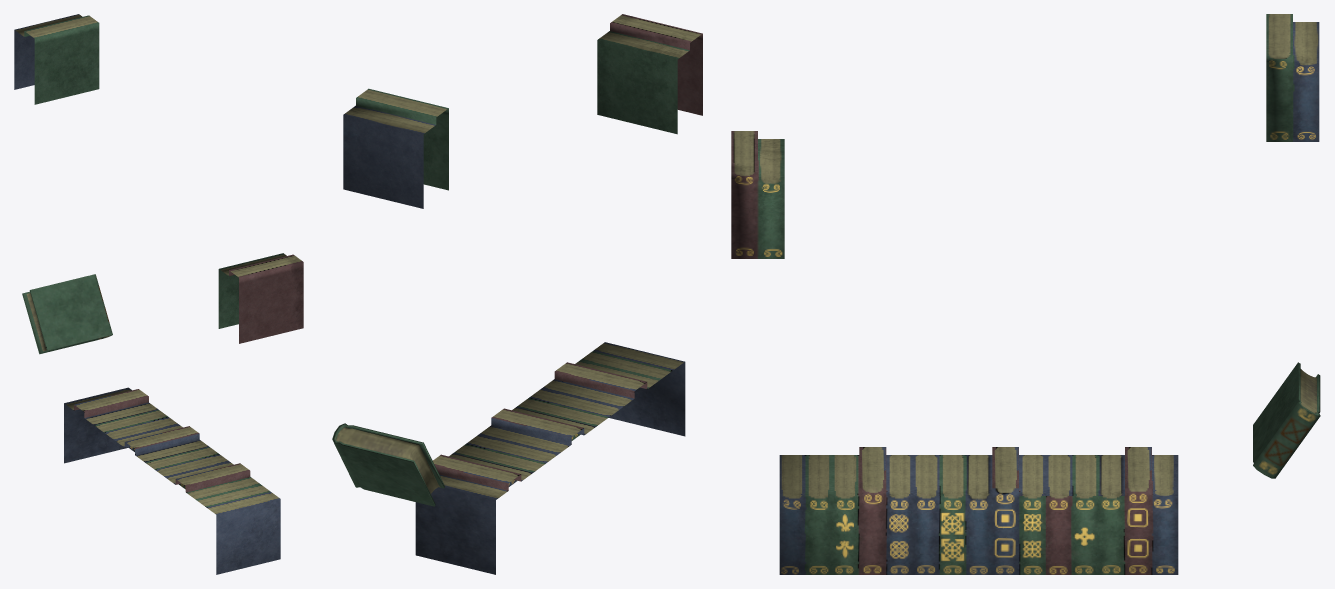
The model's file is BookCaseFill_C_02.fbx.
3 views of the same model, side by side, from view 1: azimuth 30°, elevation 25°; view 2: azimuth 150°, elevation 25°; view 3: azimuth 270°, elevation 25° (orthographic). The views are drawn at different scales.
Parts seen in each view (by area): view 1: BookCaseFill_C_02; view 2: BookCaseFill_C_02; view 3: BookCaseFill_C_02.
Part boxes in pixels (x1,y1,x2,y2): BookCaseFill_C_02: [14, 14, 303, 574]; BookCaseFill_C_02: [332, 14, 702, 574]; BookCaseFill_C_02: [731, 14, 1320, 574].
Bounding box in the file's own units: 30.82 × 147 × 150.
